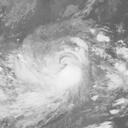cyclone: (41, 47, 86, 97)
